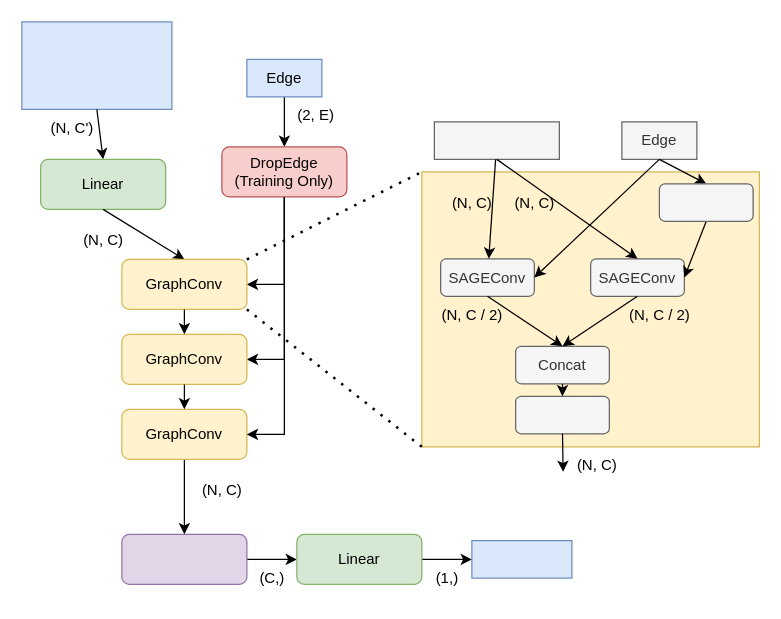
This 781x619 diagram has some shape labels left out. The centre of each missing label's shape, as x and y in pixels:
"Edge Reverse" belongs at (705,201).
"Node Feature" belongs at (496,140).
"Node Feature - Original Feature - Opcode Embedding - Config Feature" belongs at (96,65).
"Prediction" belongs at (521,558).
"ReLU" belongs at (561,414).
"SumPool" belongs at (184,558).
